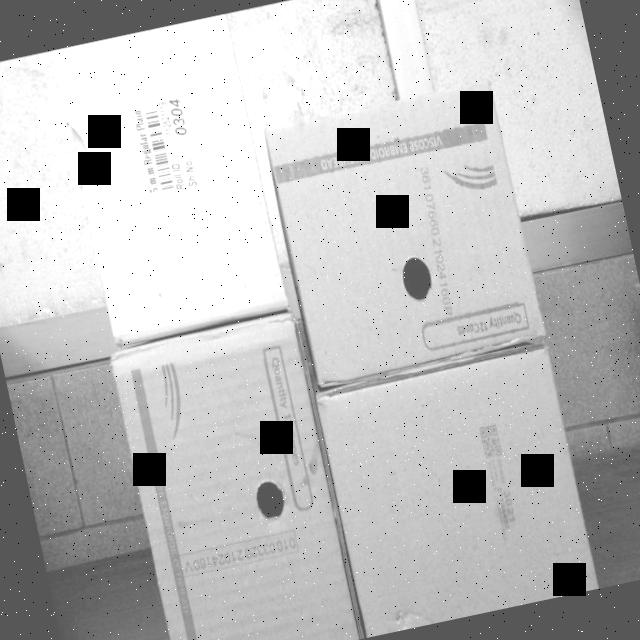box: (268, 82, 550, 388), (311, 342, 598, 637), (50, 12, 294, 353), (110, 314, 364, 640)
